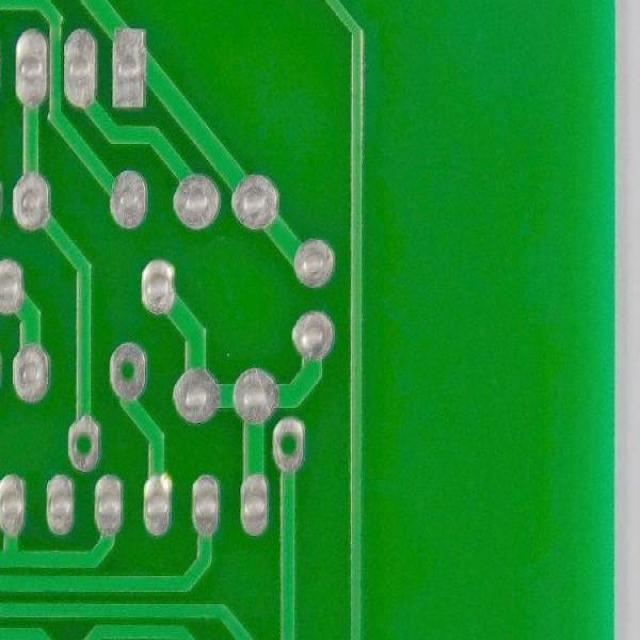missing hole: (104, 338, 154, 406), (64, 410, 109, 474), (268, 412, 309, 480)
